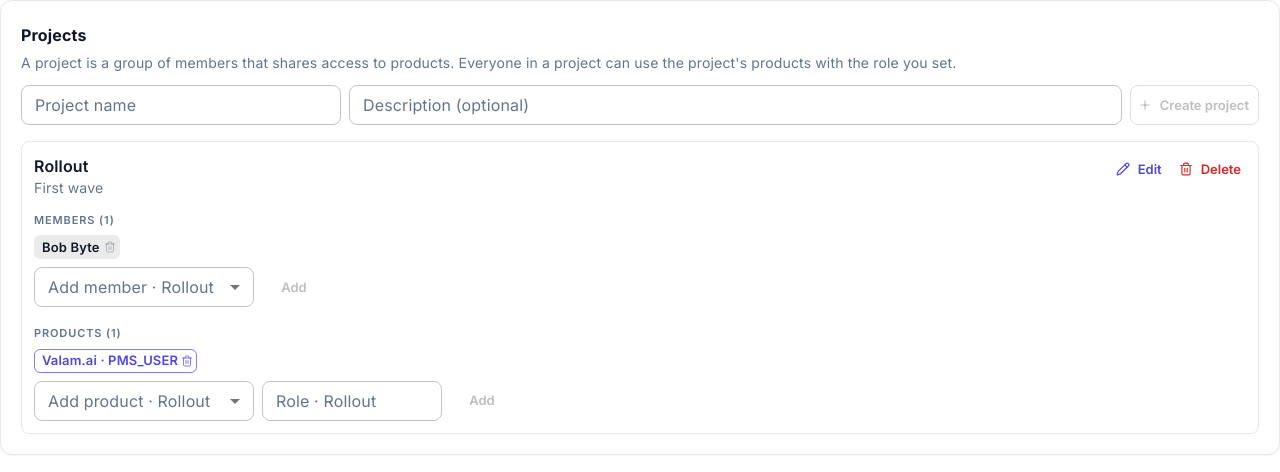
Test: OrganizationProjectsCard › removes a member and a product and deletes the project
Click the icon named "Remove Bob Byte". click: (110, 247)
box: x1=104 y1=241 x2=116 y2=253
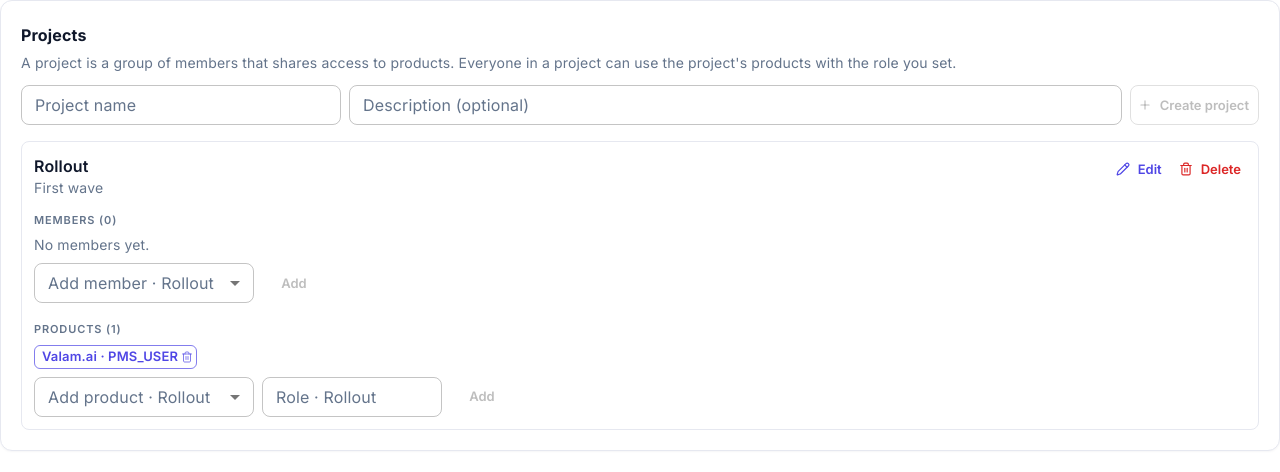
Click the icon named "Remove Valam.ai". click: (187, 356)
box: x1=181 y1=350 x2=193 y2=362
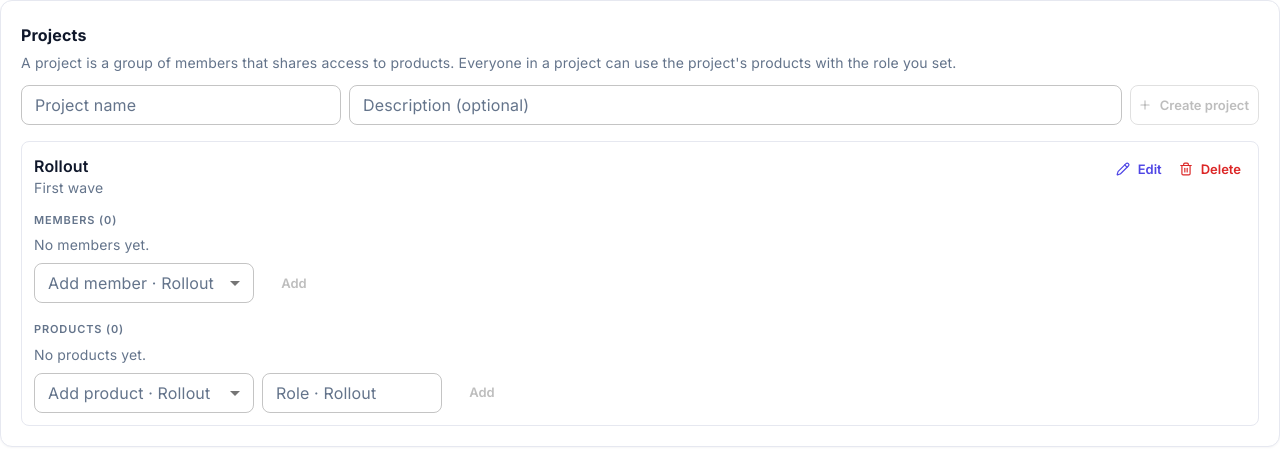
Click the button with aria-label "Delete Rollout". click: (1211, 169)
box: x1=1176 y1=154 x2=1246 y2=185
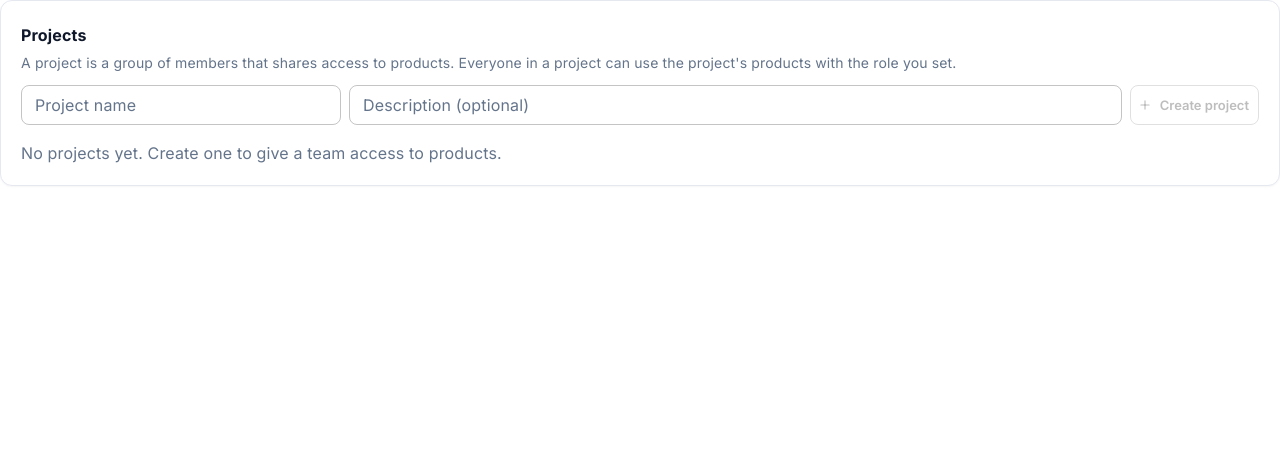
Now the text "Rollout" is gone
